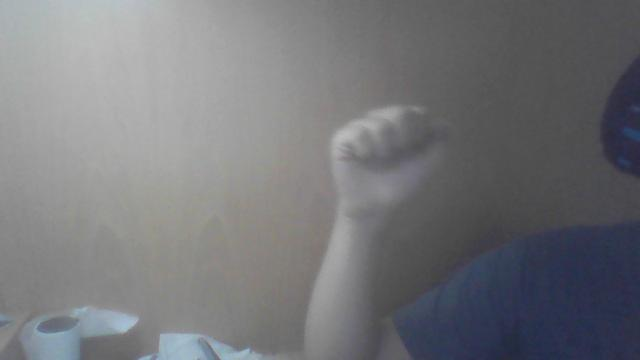forward: (328, 105, 454, 214)
